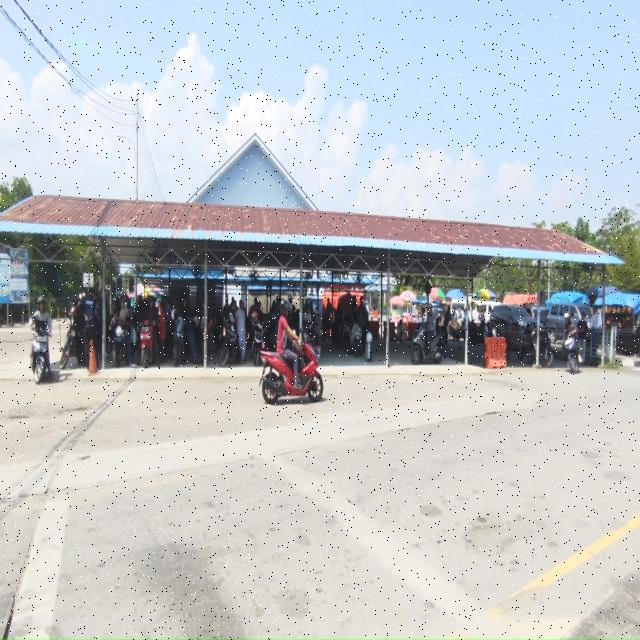Golongan II: (259, 340, 323, 404), (220, 320, 262, 367), (59, 310, 86, 370), (172, 310, 199, 367), (516, 328, 554, 368), (411, 323, 443, 364), (30, 320, 49, 385), (110, 317, 128, 368), (172, 311, 186, 367), (138, 320, 154, 369), (563, 332, 581, 373), (251, 320, 265, 366), (463, 320, 486, 346), (349, 322, 362, 357), (340, 318, 352, 352)
